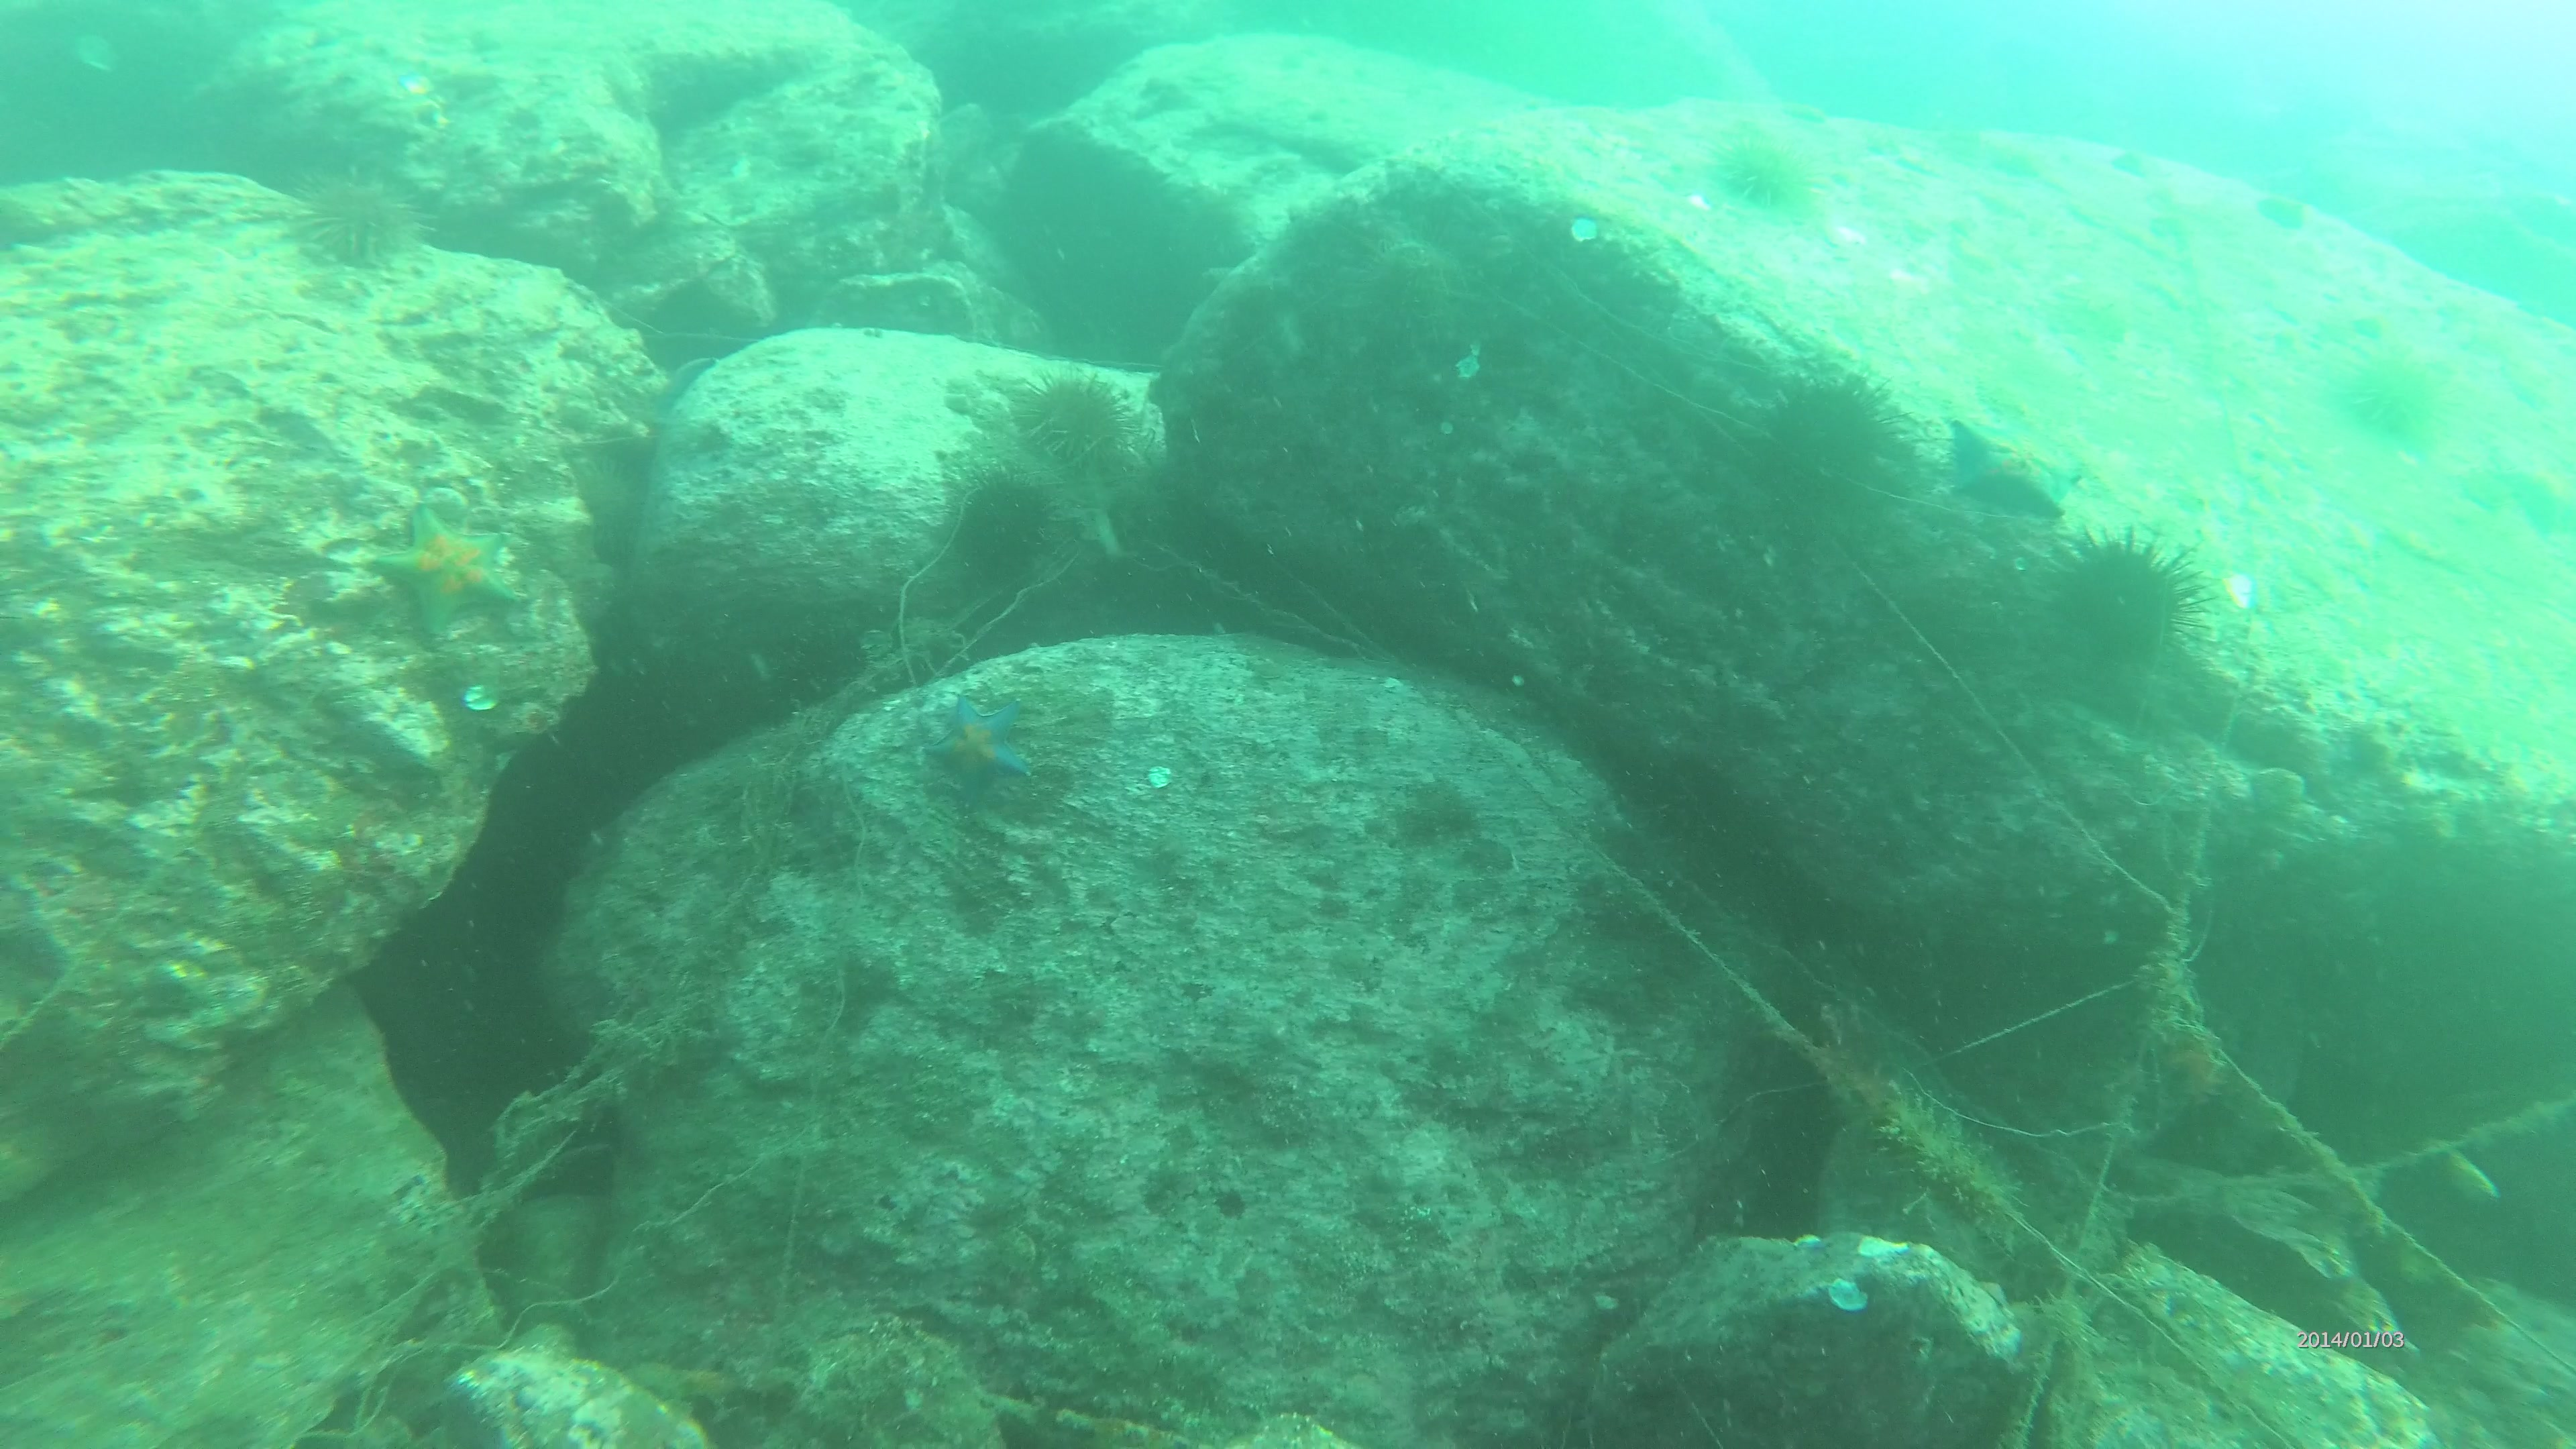echinus: (2040, 527, 2203, 676), (288, 168, 421, 271), (1026, 375, 1131, 465), (961, 474, 1056, 568)
starfish: (366, 501, 536, 649), (911, 701, 1039, 810)
